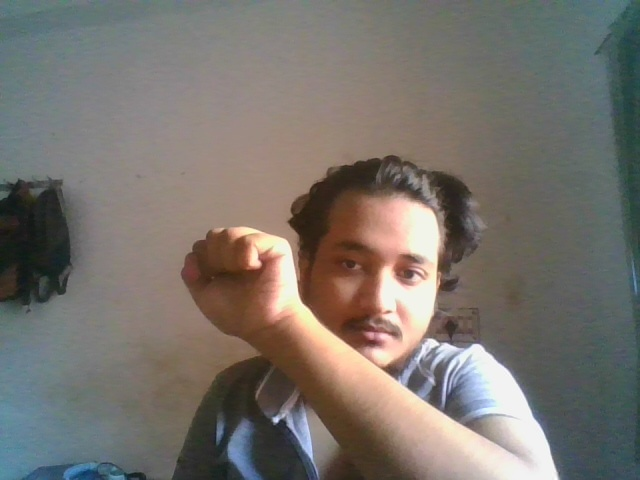Close: (179, 225, 300, 339)
